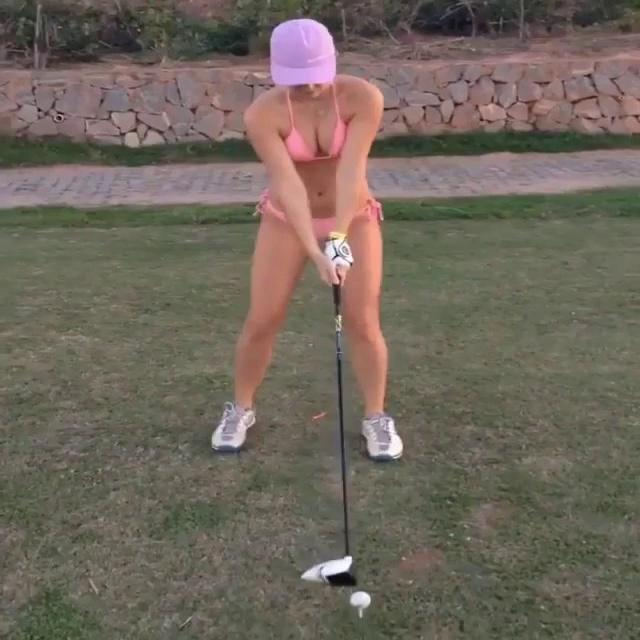ClubHead: (304, 559, 349, 584)
GolfBall: (348, 592, 374, 608)
